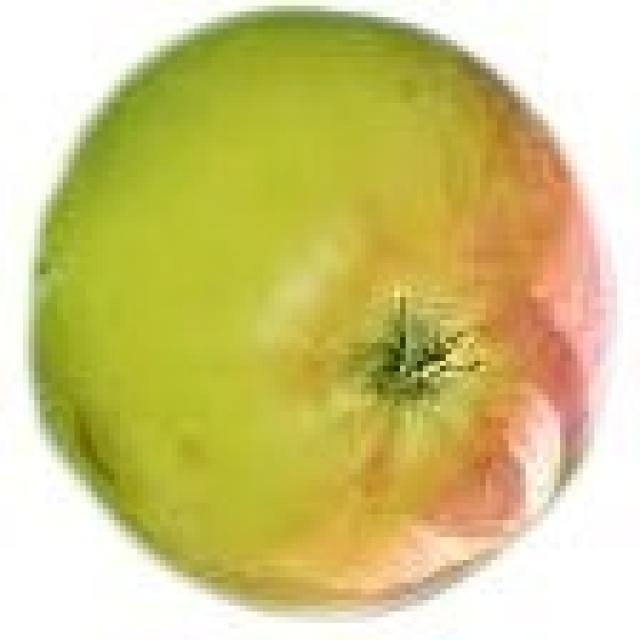75-_ripeness: (25, 9, 616, 617)
